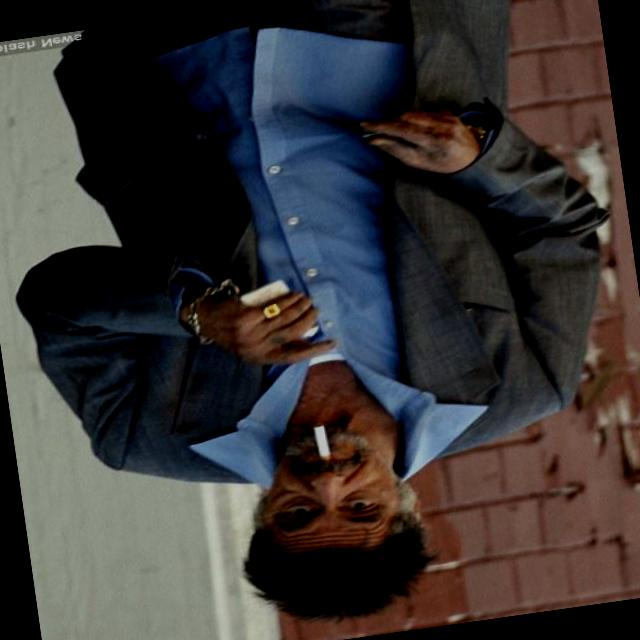cigarette: (297, 410, 343, 483)
